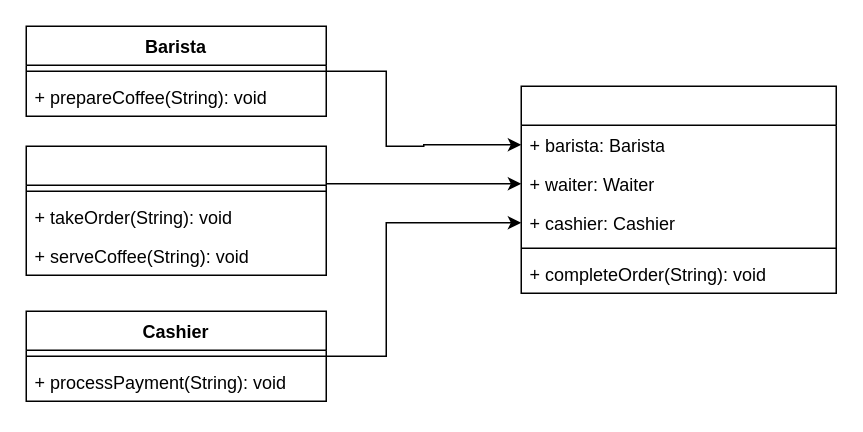
The diagram is 863 pixels wide and 432 high, and some of its shapes have lost their labels. Each missing label, with the box of its shape:
CoffeeShopFacade: (520, 85, 836, 293)
Waiter: (25, 145, 326, 275)
